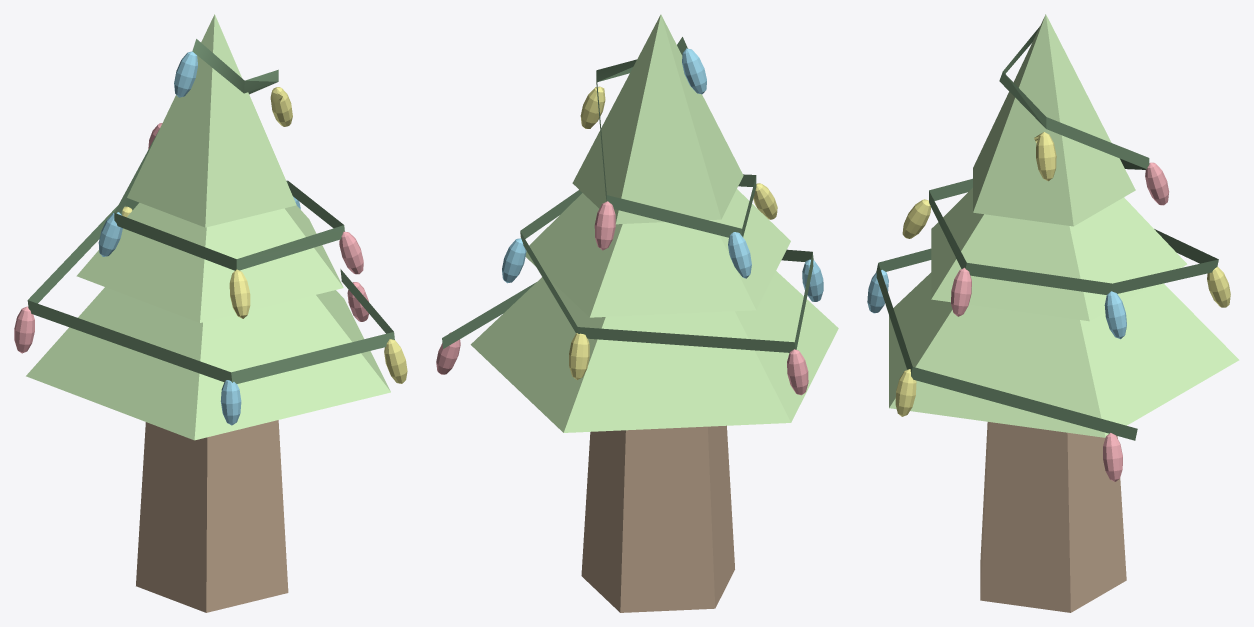
Rendered from treeSmallLB.fbx.
3 renders of one model, left to right at view 1: azimuth 30°, elevation 25°; view 2: azimuth 150°, elevation 25°; view 3: azimuth 270°, elevation 25°, orthographic.
Parts seen in each view (by area): view 1: trees, treeLightbulbs.001; view 2: trees, treeLightbulbs.001; view 3: trees, treeLightbulbs.001.
Part boxes in pixels (x1,y1,x2,y2): trees: (26, 14, 390, 612); treeLightbulbs.001: (14, 39, 407, 425); trees: (470, 14, 838, 612); treeLightbulbs.001: (436, 37, 823, 395); trees: (889, 14, 1239, 612); treeLightbulbs.001: (867, 26, 1230, 481).
Size of the model in its own units: 372 by 558 by 332.
